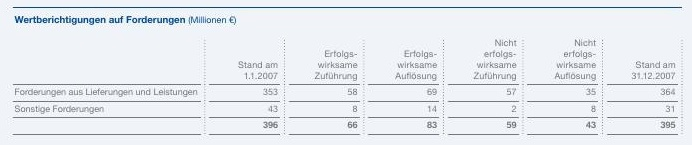table: (0, 0, 692, 145)
